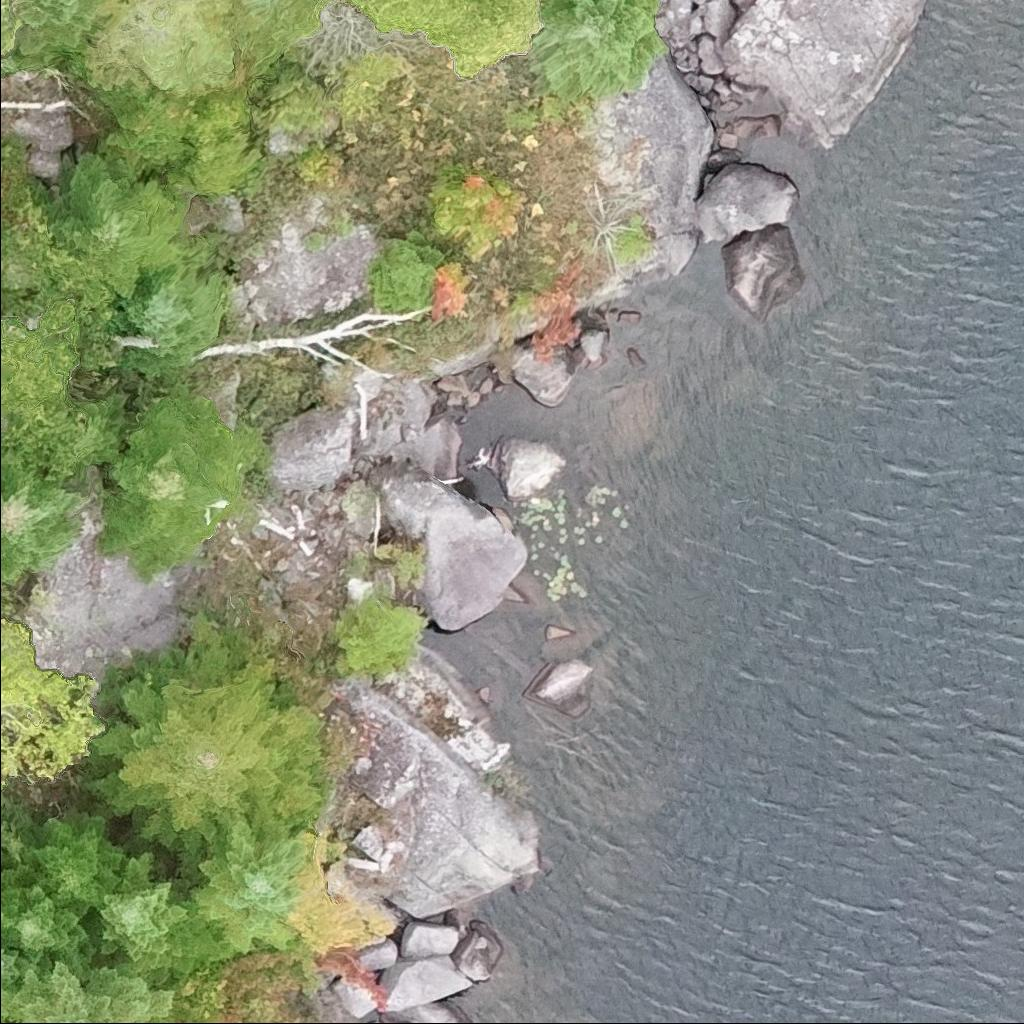crown: (82, 609, 324, 895), (30, 139, 202, 300), (104, 378, 242, 576), (0, 615, 107, 787), (186, 811, 312, 956), (310, 0, 540, 75), (77, 0, 244, 96), (96, 851, 224, 974), (527, 0, 671, 100), (22, 803, 131, 919), (116, 263, 226, 376), (7, 960, 204, 1023), (163, 77, 266, 194), (0, 459, 95, 585), (0, 298, 85, 422), (0, 882, 97, 975), (97, 87, 194, 174), (0, 0, 110, 70), (231, 0, 318, 62), (0, 943, 29, 990), (0, 0, 18, 60), (0, 907, 17, 934)
